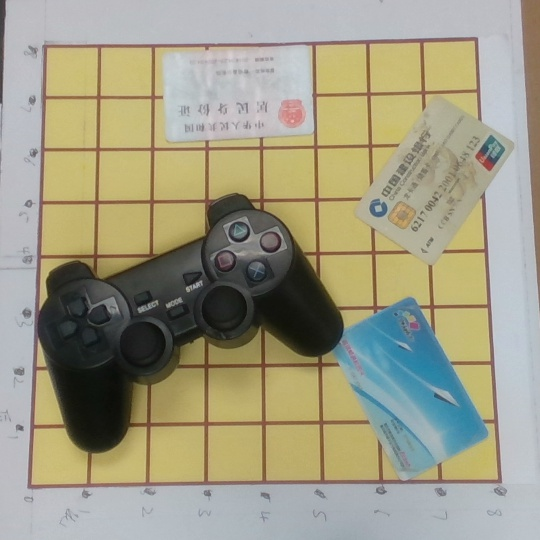card: (330, 296, 488, 482), (352, 93, 513, 266), (159, 43, 317, 139)
remote: (35, 191, 344, 452)
